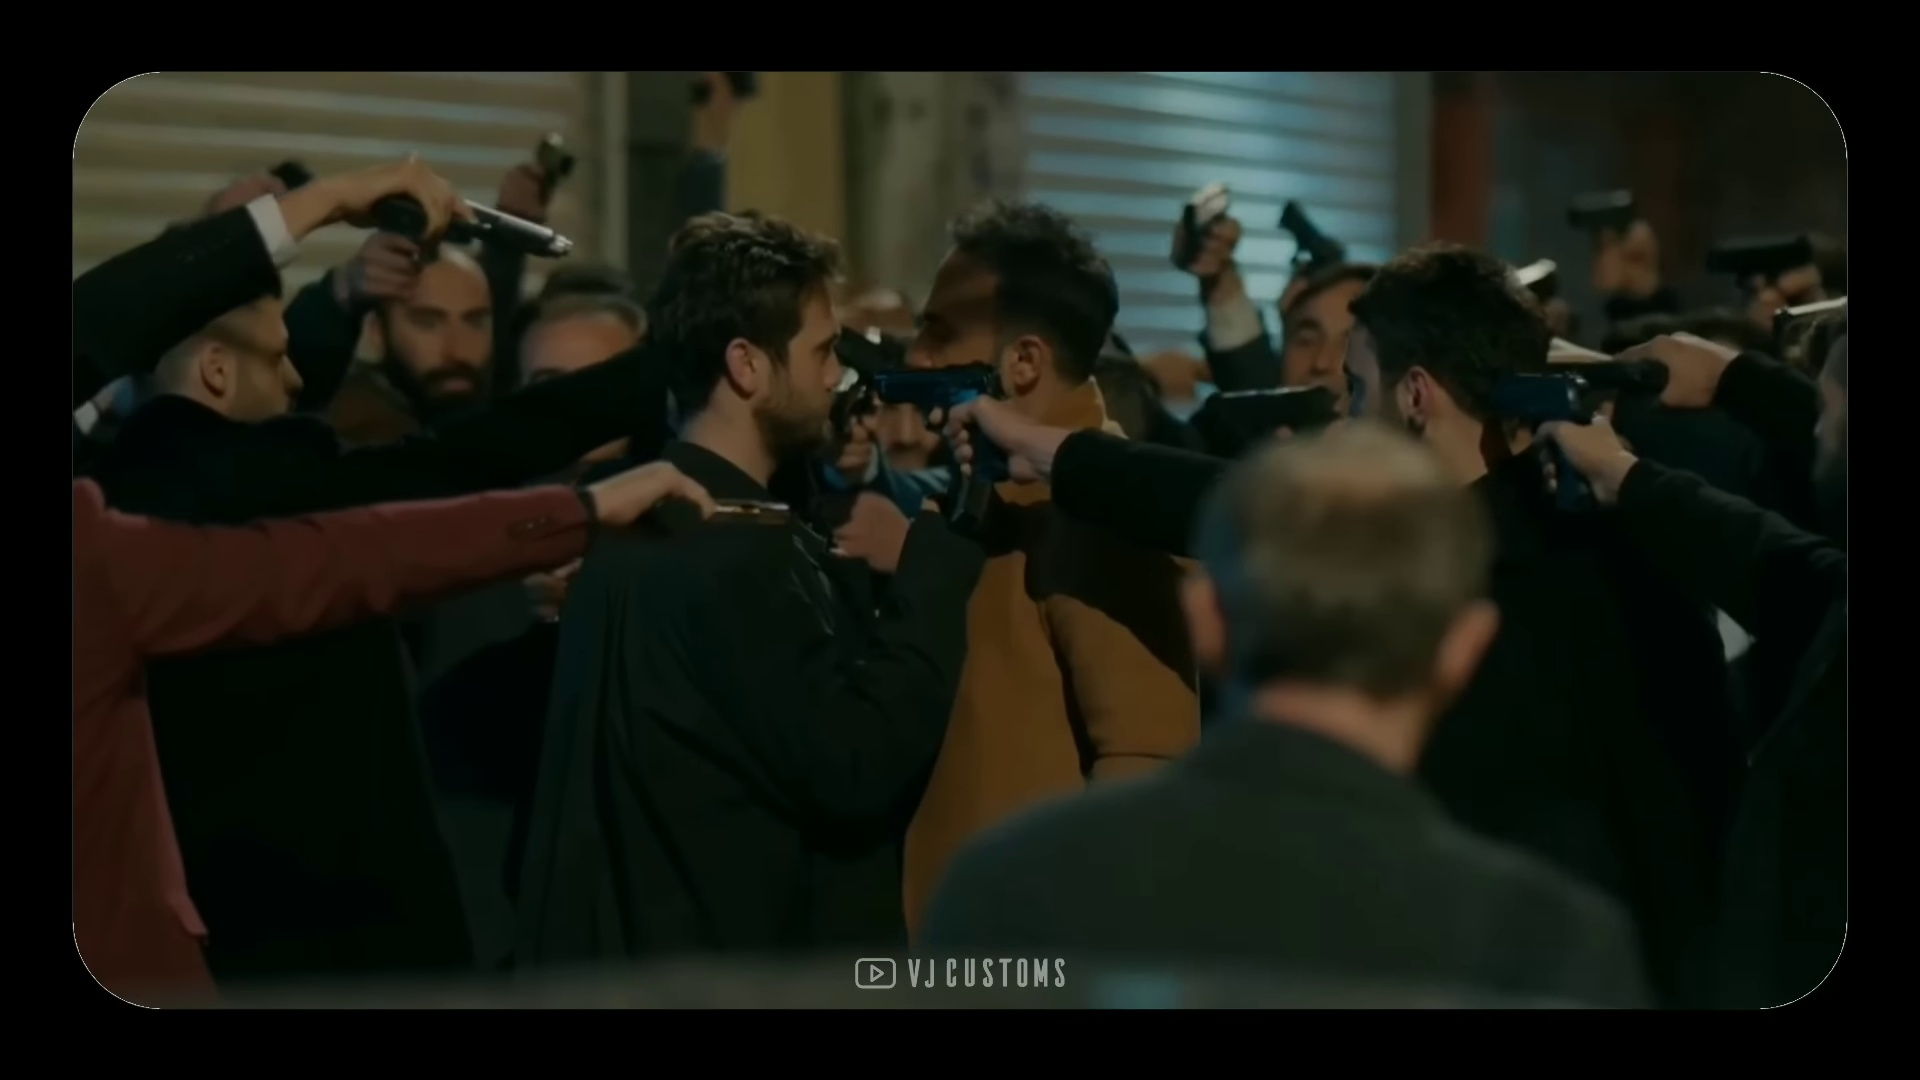gun: (856, 349, 1026, 491), (364, 178, 580, 269), (1485, 359, 1610, 512), (640, 480, 802, 539), (1704, 227, 1813, 298), (1275, 200, 1350, 284), (1175, 182, 1237, 269), (1569, 185, 1644, 253), (1770, 285, 1853, 342), (943, 468, 997, 542), (533, 131, 578, 208), (1607, 355, 1673, 401)
p_w_gun: (858, 245, 1766, 1017), (58, 458, 804, 1017), (541, 196, 1007, 1011), (73, 150, 584, 439), (1478, 352, 1853, 674), (1598, 327, 1851, 484)
p_wo_gun_not_carrying_normal_pose: (906, 411, 1644, 1011)
